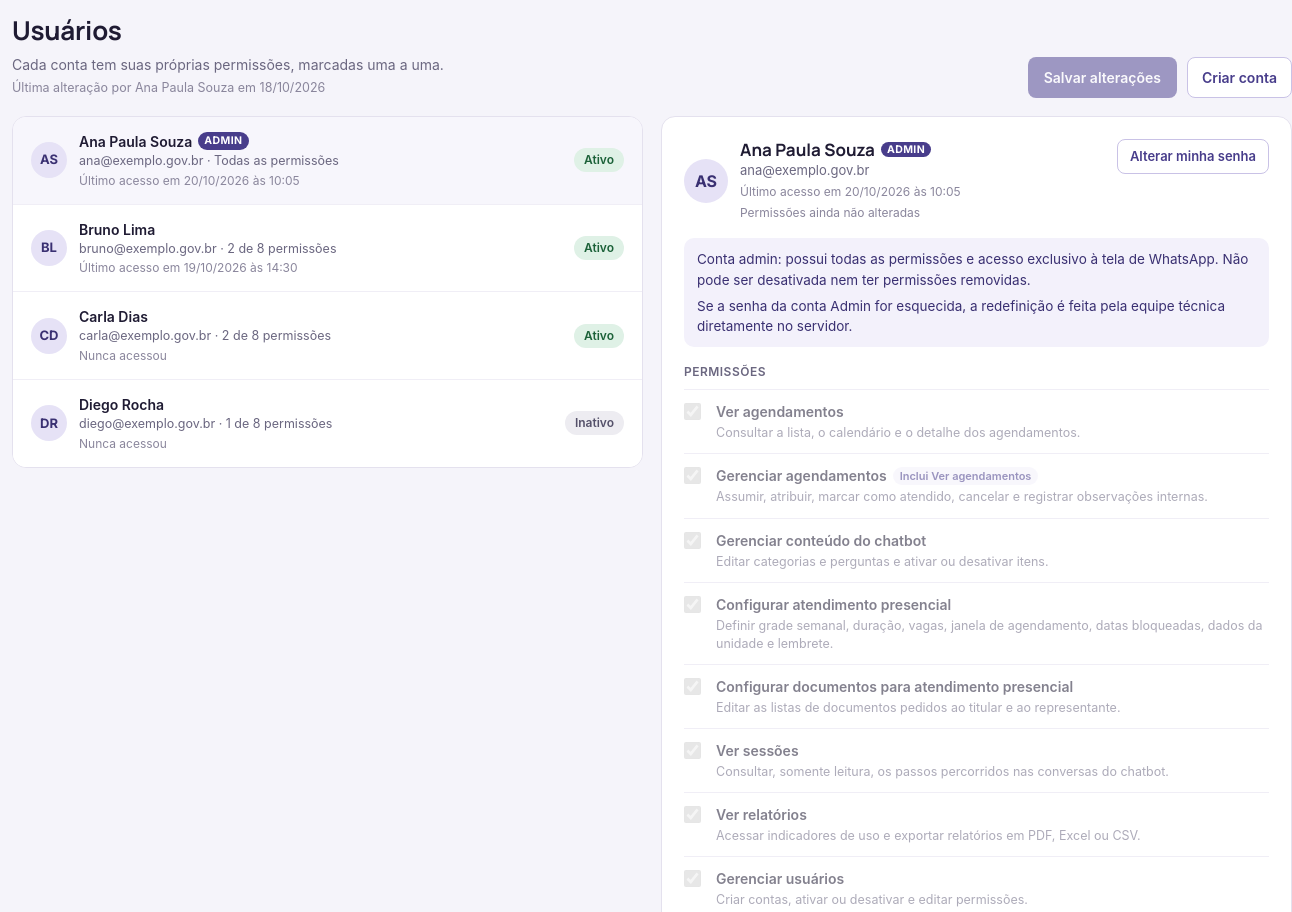
Scenario: UsersPage salvar em lote › guarda a permissão marcada só no rascunho, com Não salvo e a barra
Expected: the list named "Contas" is shown, x1=12 y1=116 x2=643 y2=468
Click the button "Carla Dias" at (328, 336), box x1=13 y1=292 x2=642 y2=380
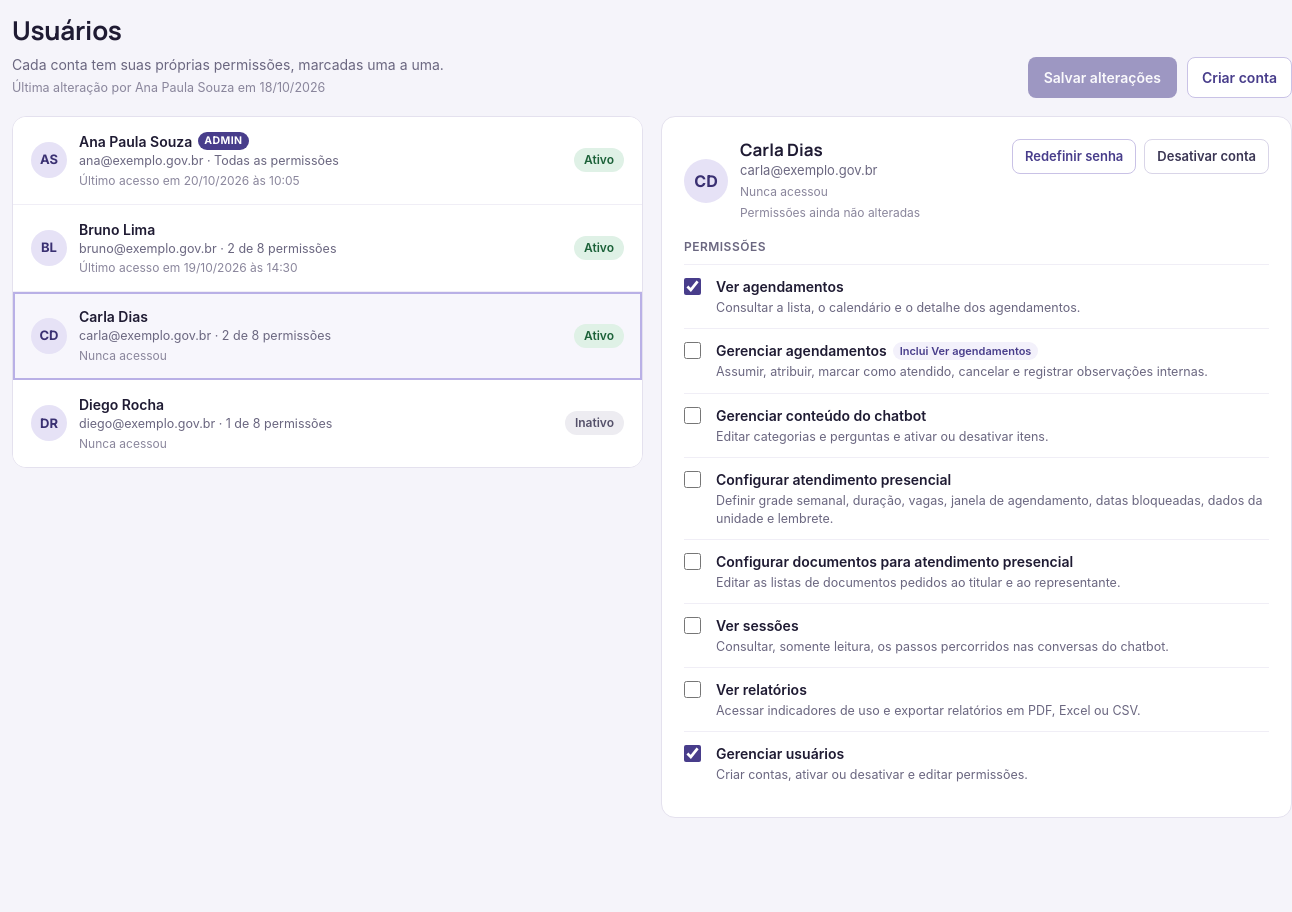
Click the checkbox labelled "Ver relatórios" at (692, 690), box x1=684 y1=681 x2=701 y2=698
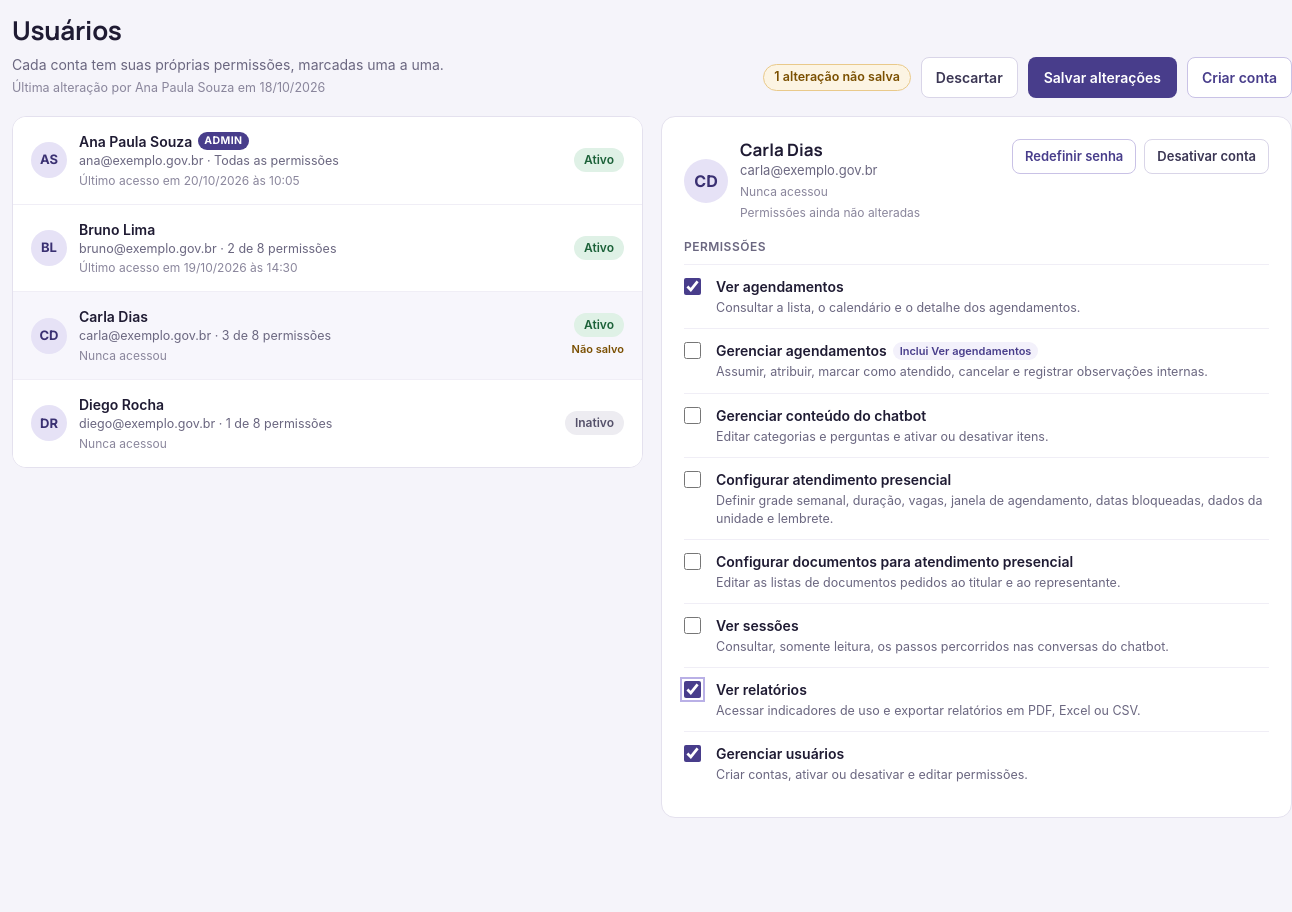
Expected: the checkbox labelled "Ver relatórios" is checked, x1=684 y1=681 x2=701 y2=698
Expected: the button "Carla Dias" shows "Não salvo", x1=13 y1=292 x2=642 y2=380
Expected: the button "Carla Dias" shows "3 de 8 permissões", x1=13 y1=292 x2=642 y2=380
Hover over the button "1 alteração não salva" at (837, 77), box x1=763 y1=64 x2=911 y2=91
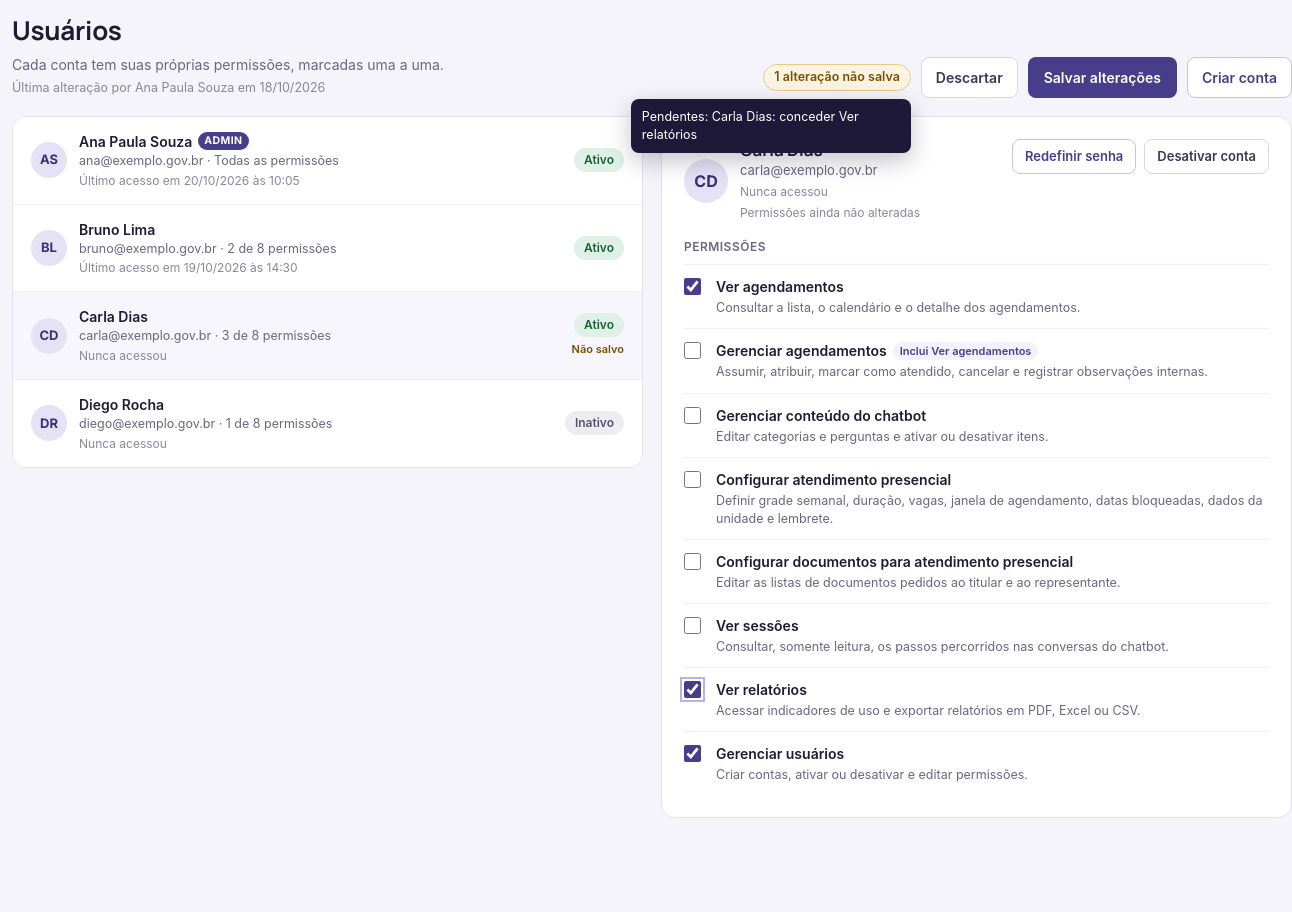
Expected: the tooltip reads "Pendentes: Carla Dias: conceder Ver relatórios", x1=642 y1=109 x2=859 y2=142
